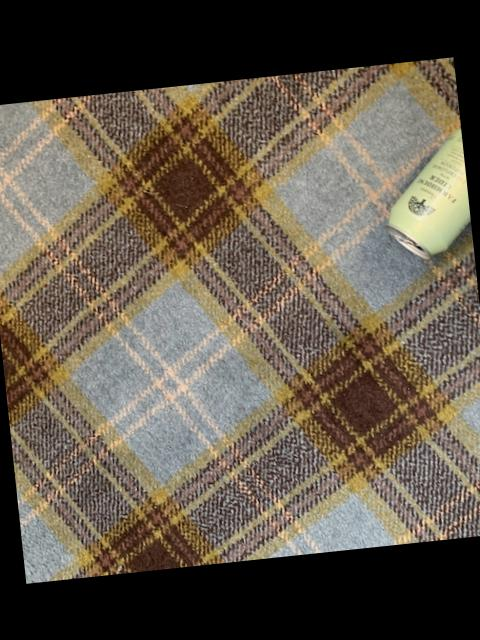metal: (385, 130, 471, 260)
